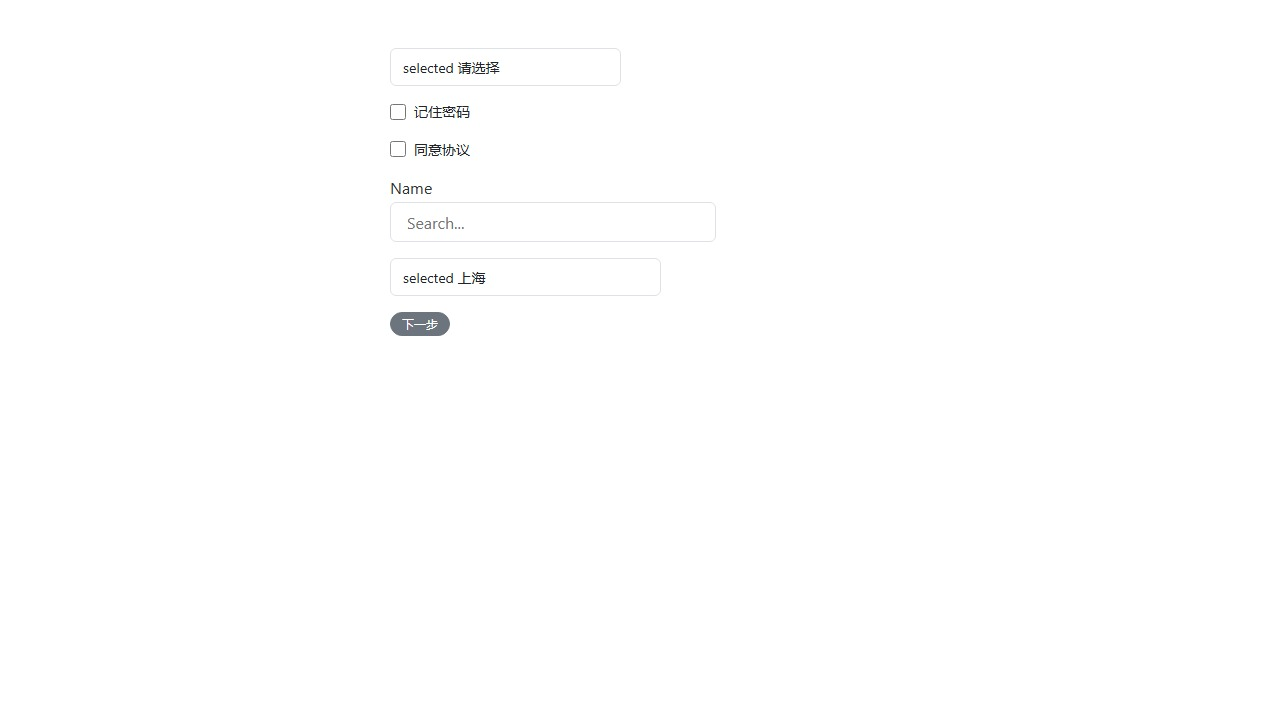button: (390, 312, 450, 336)
checkbox: (390, 103, 406, 119), (390, 141, 406, 157)
icon: (414, 102, 470, 121), (414, 139, 470, 158)
input: (390, 202, 716, 242)
radio: (390, 102, 470, 121), (390, 139, 470, 158)
select: (390, 258, 661, 296), (390, 48, 621, 86)
